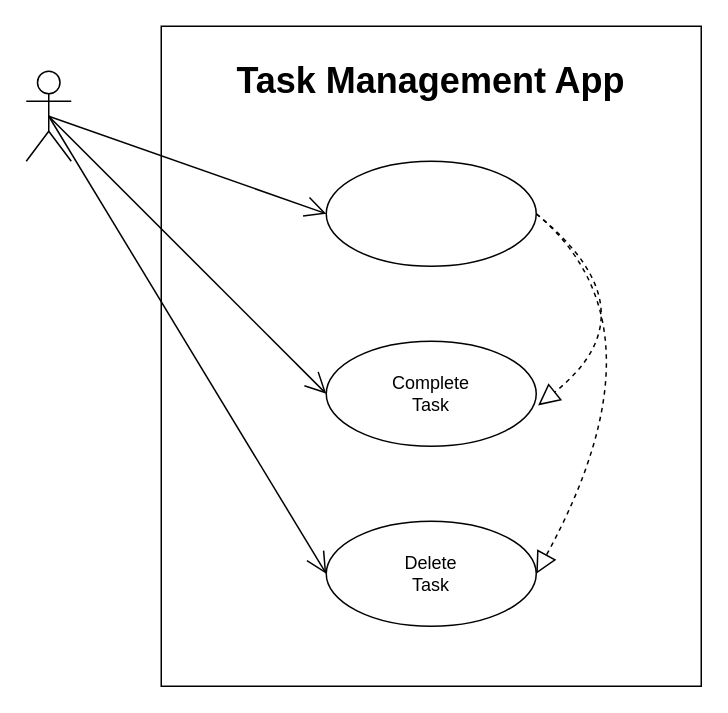
This 728x713 diagram has some shape labels left out. Here are the shapes that lost their labels. From the top down, the centre of each, then its label:
At (x=48, y=115): "User".
At (x=430, y=213): "Create New Task".
